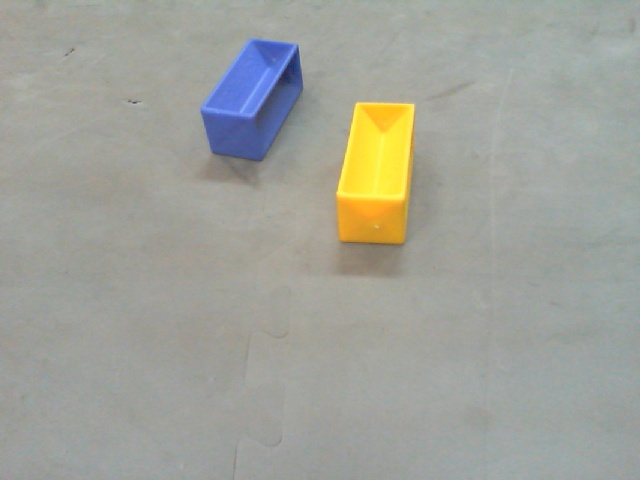BlueSample: (198, 38, 306, 167)
YellowSample: (334, 100, 417, 253)
